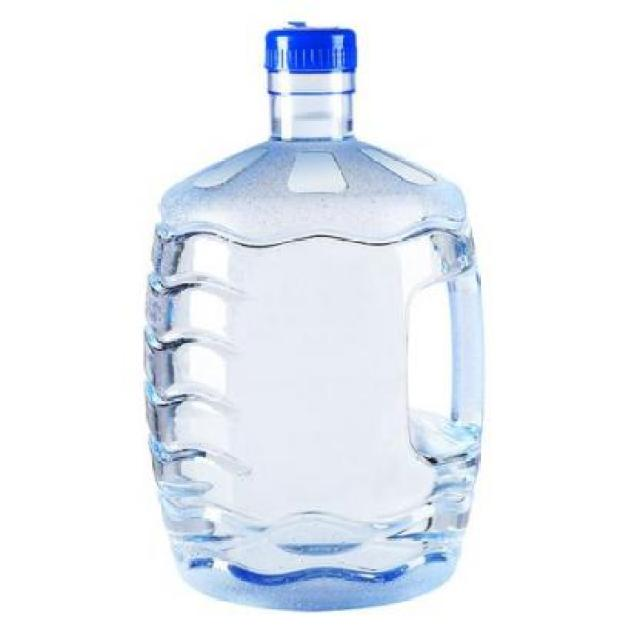coolerbottle: (134, 12, 488, 618)
